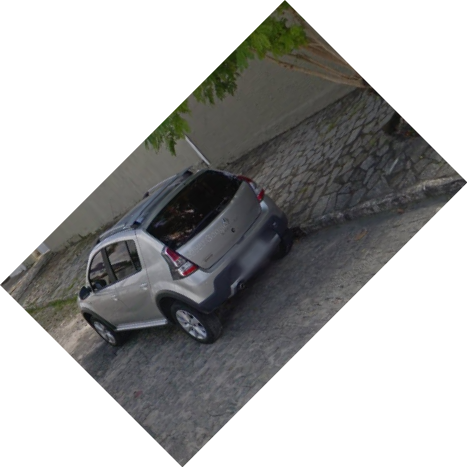car: (76, 163, 293, 356)
